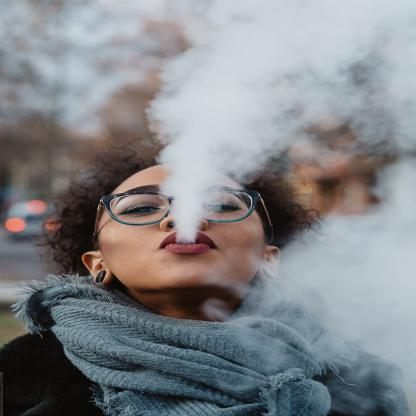person: (4, 153, 338, 415)
smoke: (147, 0, 415, 153), (269, 210, 415, 353), (158, 144, 266, 209)
